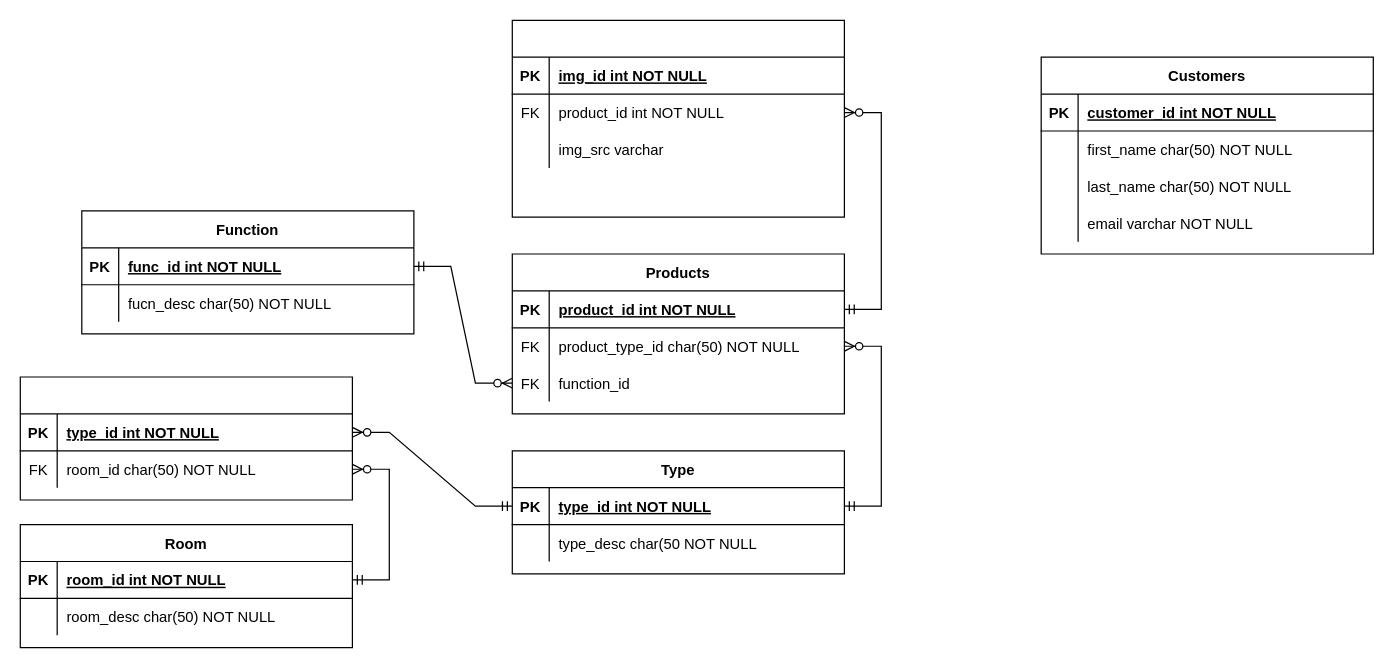
This 1394x668 diagram has some shape labels left out. The box of each missing label's shape, as (x1, y1, x2, y2) in pixels:
Products.Image: (511, 19, 844, 217)
Type.Room: (19, 376, 352, 500)
